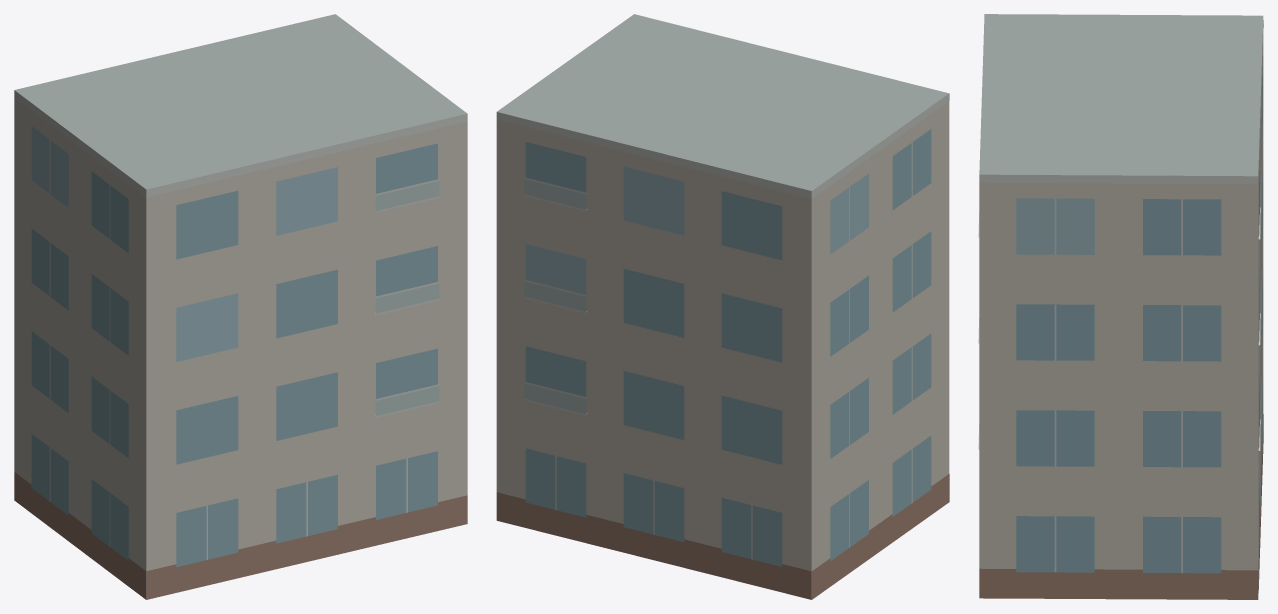
Rendered from survey-upis-32689312.glb.
3 views of the same model, side by side, from view 1: azimuth 30°, elevation 25°; view 2: azimuth 150°, elevation 25°; view 3: azimuth 270°, elevation 25° (orthographic). The views are drawn at different scales.
Parts seen in each view (by area): view 1: survey-upis-32689312.tmp; view 2: survey-upis-32689312.tmp; view 3: survey-upis-32689312.tmp.
Boxes of the visible parts, box(x1,y1,x2,y2) form: survey-upis-32689312.tmp: box(14, 14, 467, 599); survey-upis-32689312.tmp: box(496, 14, 949, 599); survey-upis-32689312.tmp: box(978, 14, 1263, 599).
Size of the model in its own units: 10.51 by 12.79 by 7.81.
